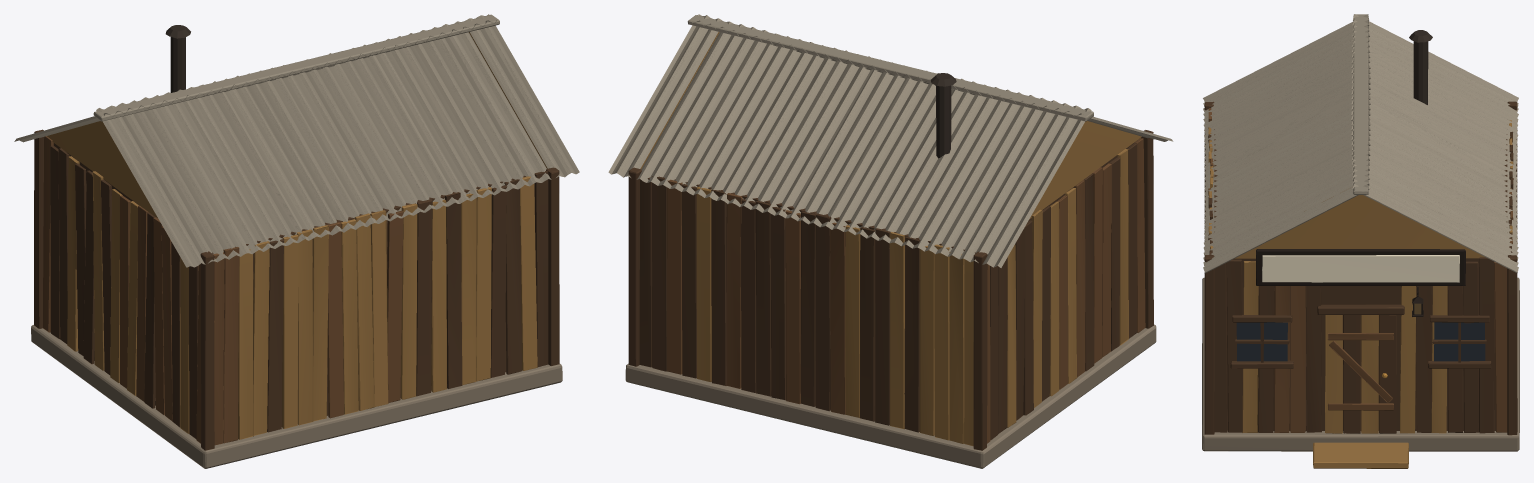
The model's file is shack.glb.
3 renders of one model, left to right at view 1: azimuth 30°, elevation 25°; view 2: azimuth 150°, elevation 25°; view 3: azimuth 270°, elevation 25°, orthographic. The views are drawn at different scales.
Visible parts, largest first — view 1: Shack; view 2: Shack; view 3: Shack.
Boxes of the visible parts, x1,y1,x2,y2 form: Shack: (14, 14, 579, 468); Shack: (608, 14, 1173, 468); Shack: (1202, 14, 1519, 468).
Bounding box in the file's own units: 7.46 × 5.57 × 5.31.
